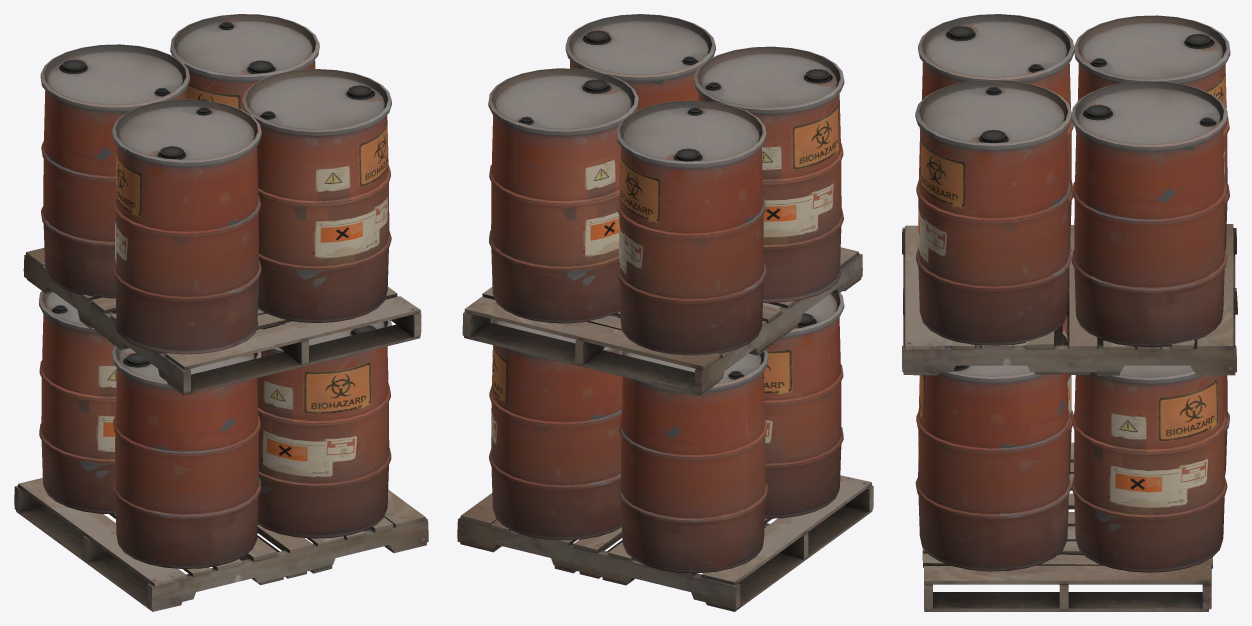
3 views of the same model, side by side, from view 1: azimuth 30°, elevation 25°; view 2: azimuth 150°, elevation 25°; view 3: azimuth 270°, elevation 25° (orthographic). The views are drawn at different scales.
Visible parts, largest first — view 1: body0_model0_lod0_mesh0, body0_model0_lod0_mesh1; view 2: body0_model0_lod0_mesh0, body0_model0_lod0_mesh1; view 3: body0_model0_lod0_mesh0, body0_model0_lod0_mesh1.
Part boxes in pixels (x1=…): body0_model0_lod0_mesh0: x1=39, y1=14, x2=391, y2=568; body0_model0_lod0_mesh1: x1=14, y1=248, x2=428, y2=611; body0_model0_lod0_mesh0: x1=488, y1=14, x2=844, y2=573; body0_model0_lod0_mesh1: x1=457, y1=247, x2=873, y2=611; body0_model0_lod0_mesh0: x1=915, y1=14, x2=1230, y2=572; body0_model0_lod0_mesh1: x1=902, y1=224, x2=1237, y2=611.
Size of the model in its own units: 74.84 by 113 by 74.84.
2 materials, 2 textured.
